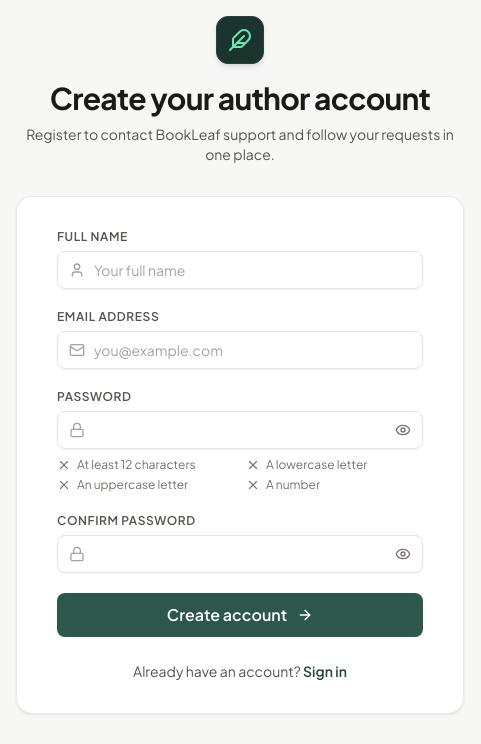
Test: RegisterPage › rejects an invalid email locally
The width and height of the screenshot is (481, 744).
Type "Asha Verma" into the field labelled "Full name".
click(240, 270); type("Asha Verma")  # box left=57, top=251, right=423, bottom=289
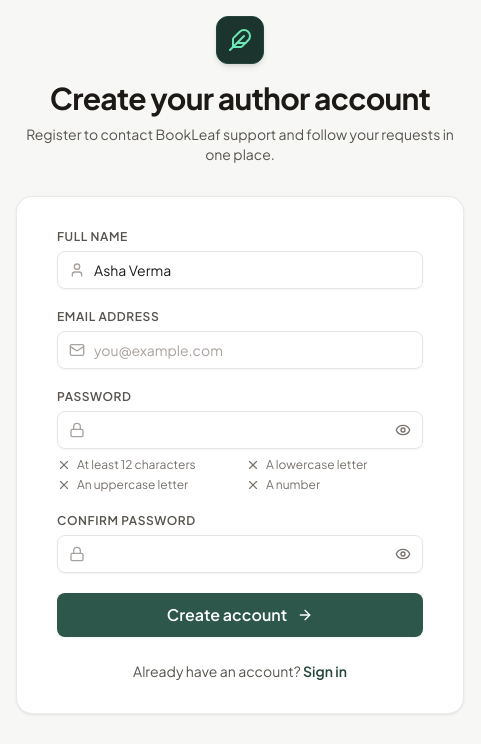
Type "nope" into the field labelled "Email address".
click(240, 350); type("nope")  # box left=57, top=331, right=423, bottom=369
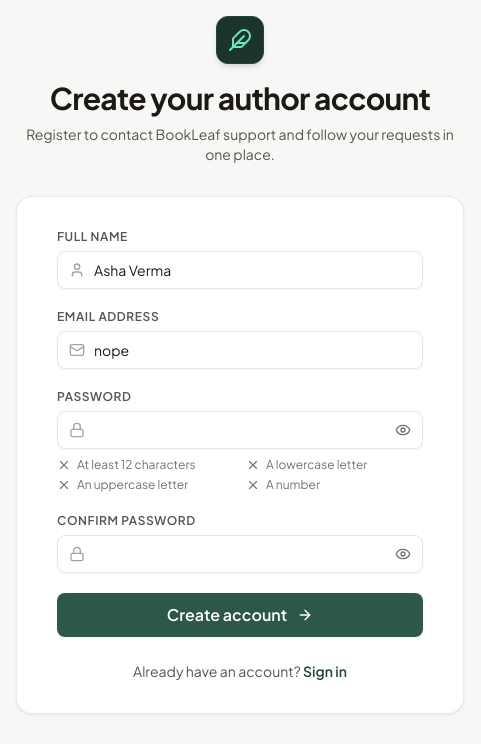
Type "Sturdy-Pass-2026" into the password field labelled "Password".
click(240, 430); type("Sturdy-Pass-2026")  # box left=57, top=411, right=423, bottom=449
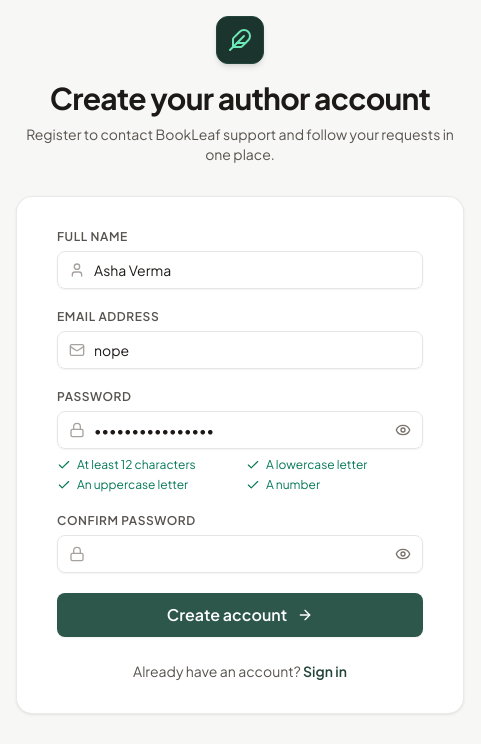
Type "Sturdy-Pass-2026" into the password field labelled "Confirm password".
click(240, 554); type("Sturdy-Pass-2026")  # box left=57, top=535, right=423, bottom=573
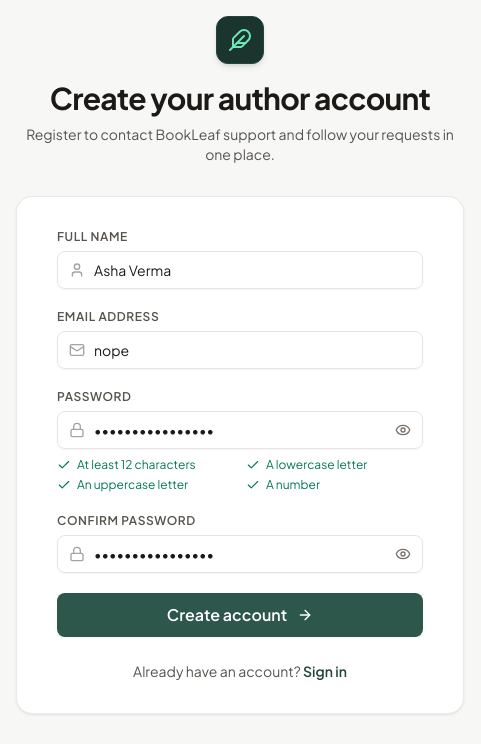
Click the button "Create account".
click(240, 615)  # box left=57, top=593, right=423, bottom=637
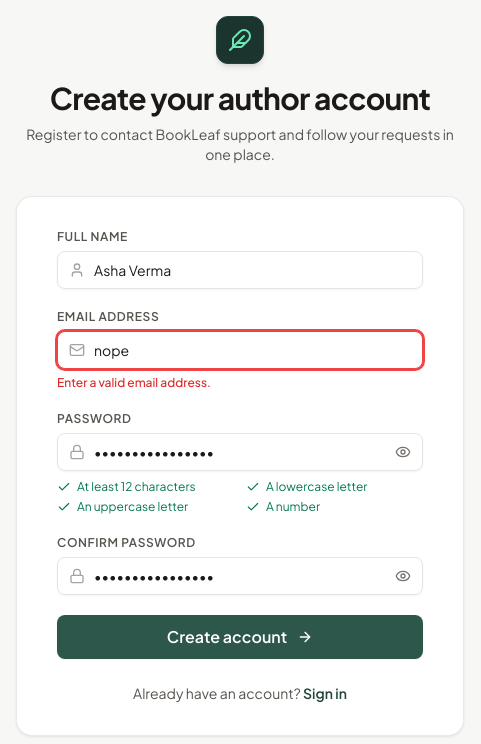
Expected: the text "Enter a valid email address." is shown, left=57, top=375, right=211, bottom=390
